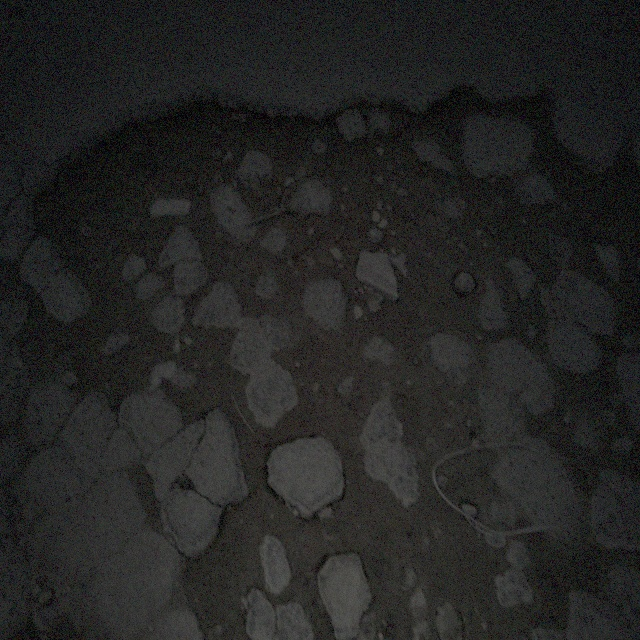pothole: (19, 76, 601, 517)
